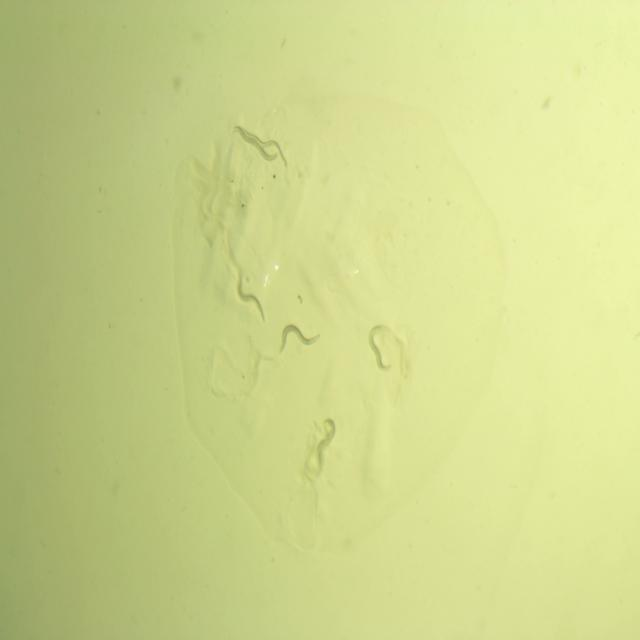worm: (307, 409, 344, 477), (240, 124, 290, 172), (233, 267, 268, 329), (229, 123, 280, 164), (276, 321, 322, 363), (365, 321, 394, 376)
